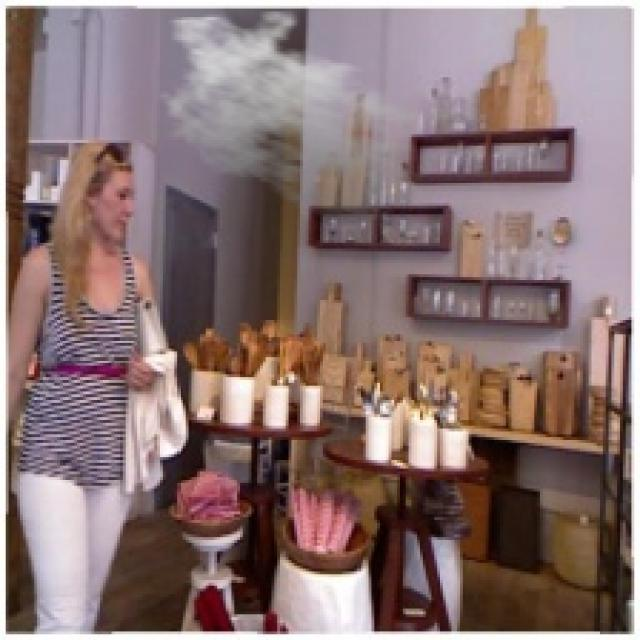smoke: (154, 8, 437, 223)
